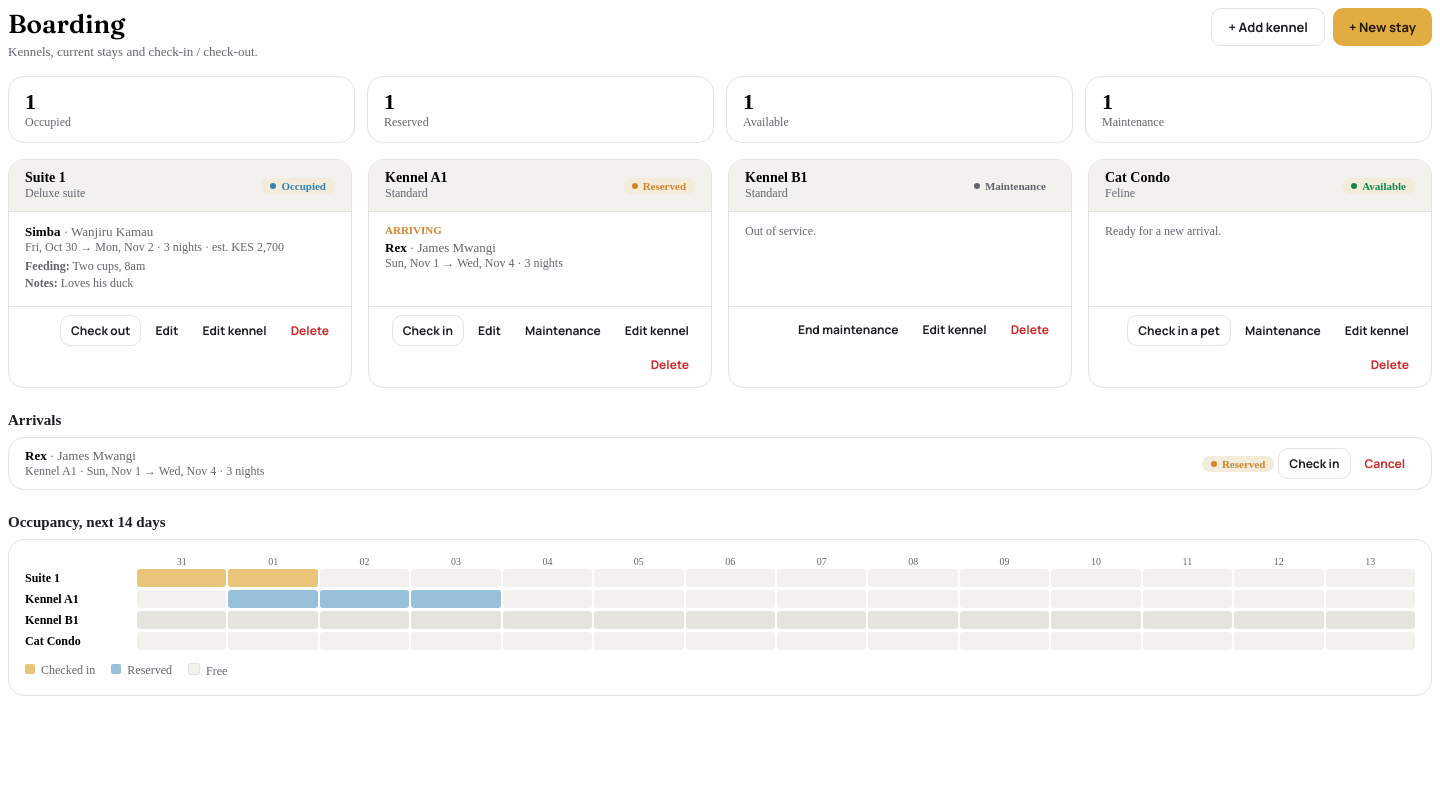
Test: BoardingPage › shows the database's reason in plain words when a change is refused
What coordinates should you click on to do the following:
click the button with aria-label "Check in Rex"
I would click on:
 (428, 330)
Its box is [392, 315, 464, 346].
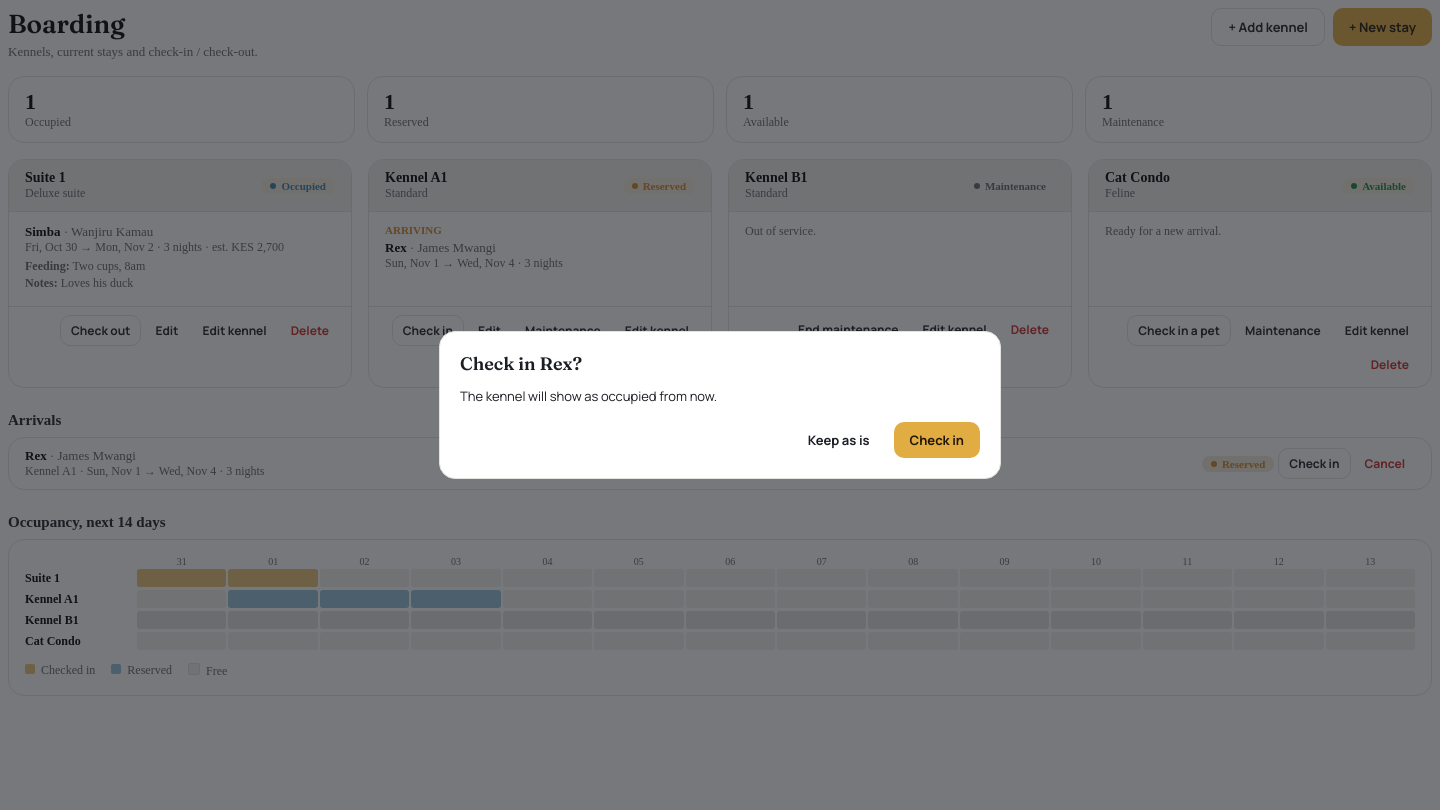
Now the text "The kennel will show as occupied from now." is shown, box [460, 387, 717, 405]
What coordinates should you click on to do the following:
click the button "Check in"
I would click on:
 (937, 440)
Its box is [894, 422, 980, 458].
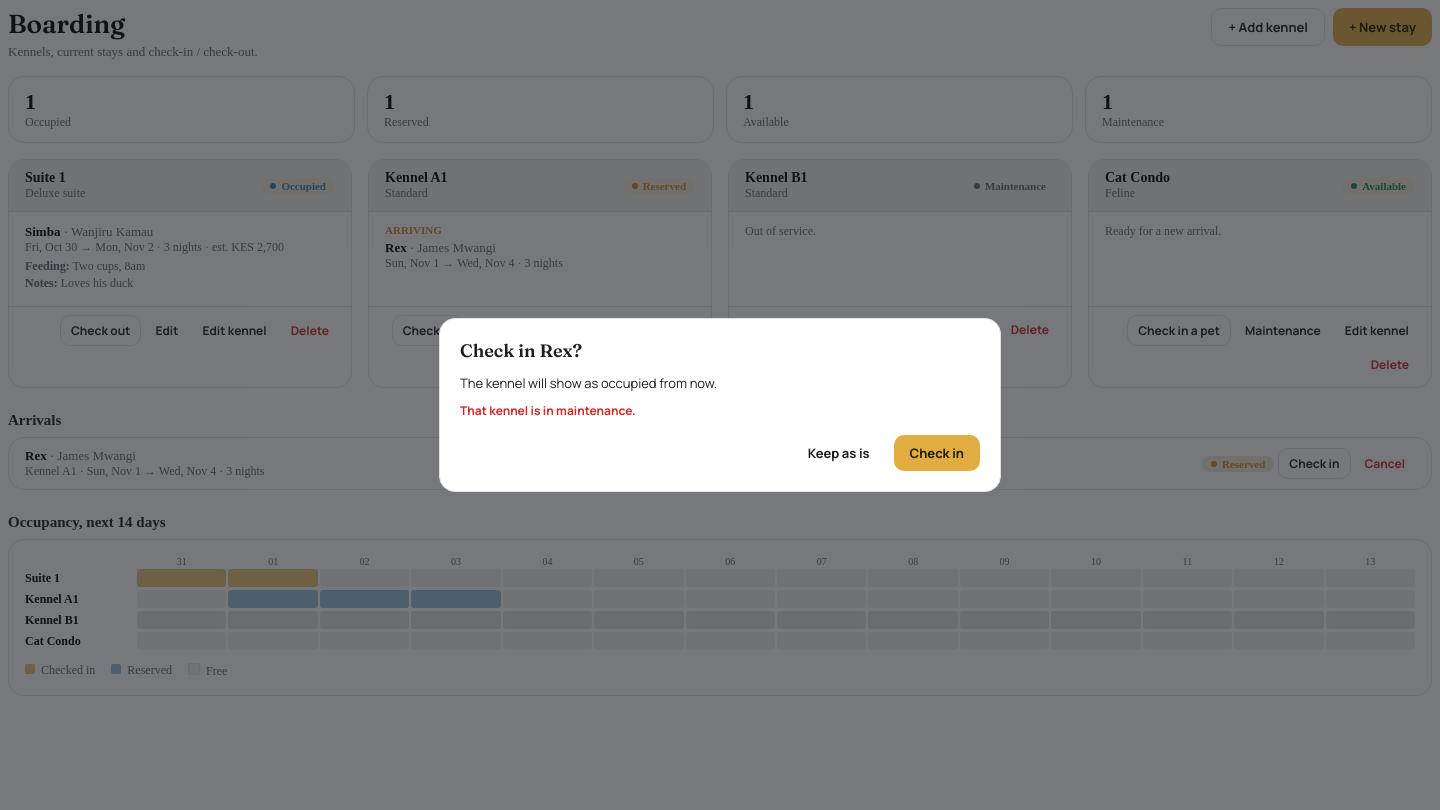
Now the text "That kennel is in maintenance." is shown, box [460, 402, 636, 419]
